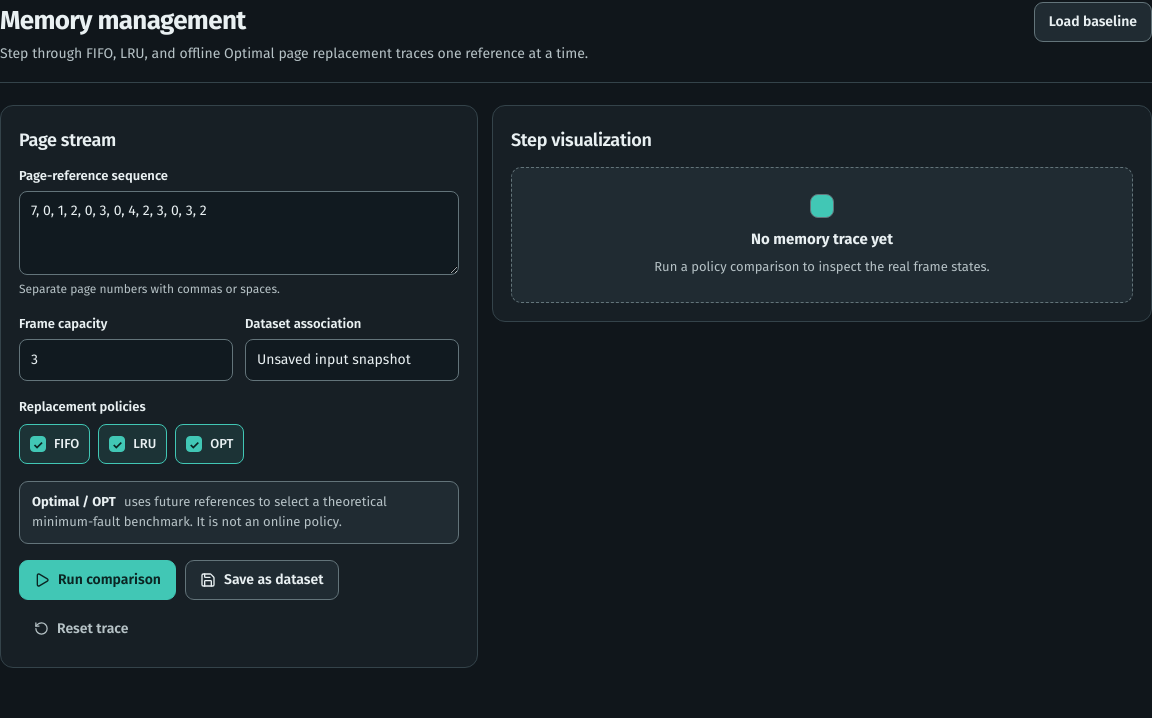
memory trace presentation › keeps resident page order clear through a replacement that changes the list
Step 1. Click the button "Run comparison" → (98, 580), box top-left (19, 560), bottom-right (176, 600)
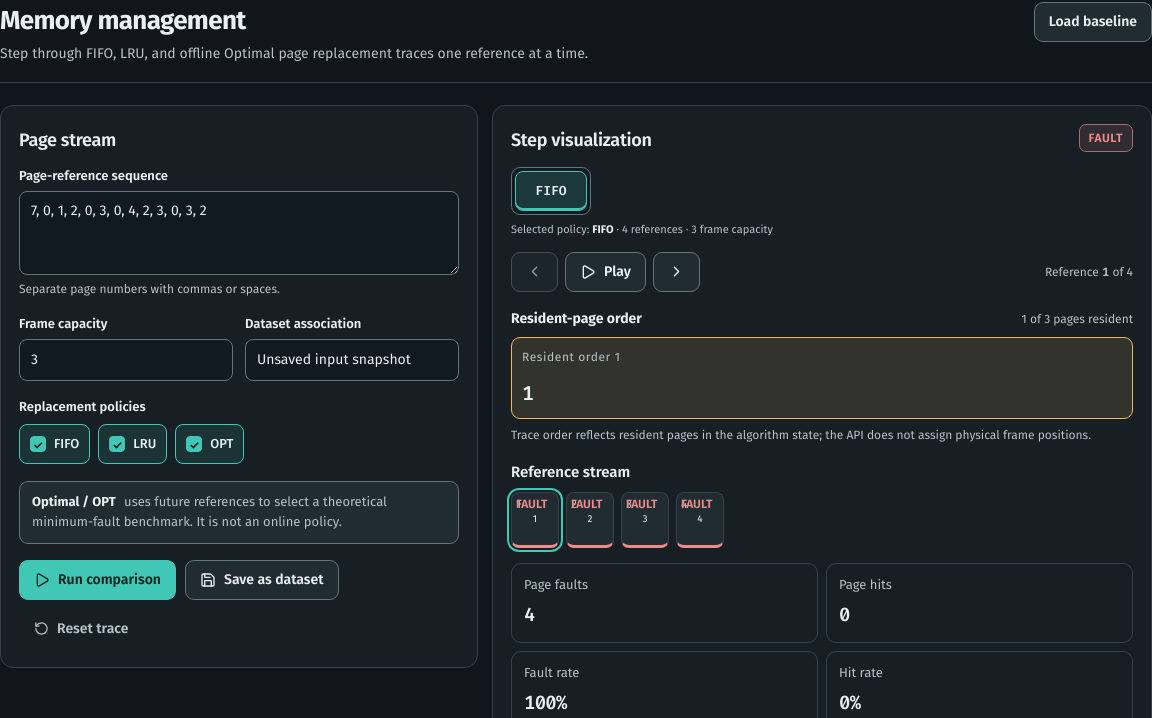
expect the text "Resident-page order" is shown: met, box top-left (511, 308), bottom-right (642, 329)
Step 2. Click the button with aria-label "Reference 4, page 4, FAULT" → (700, 520), box top-left (676, 492), bottom-right (724, 548)
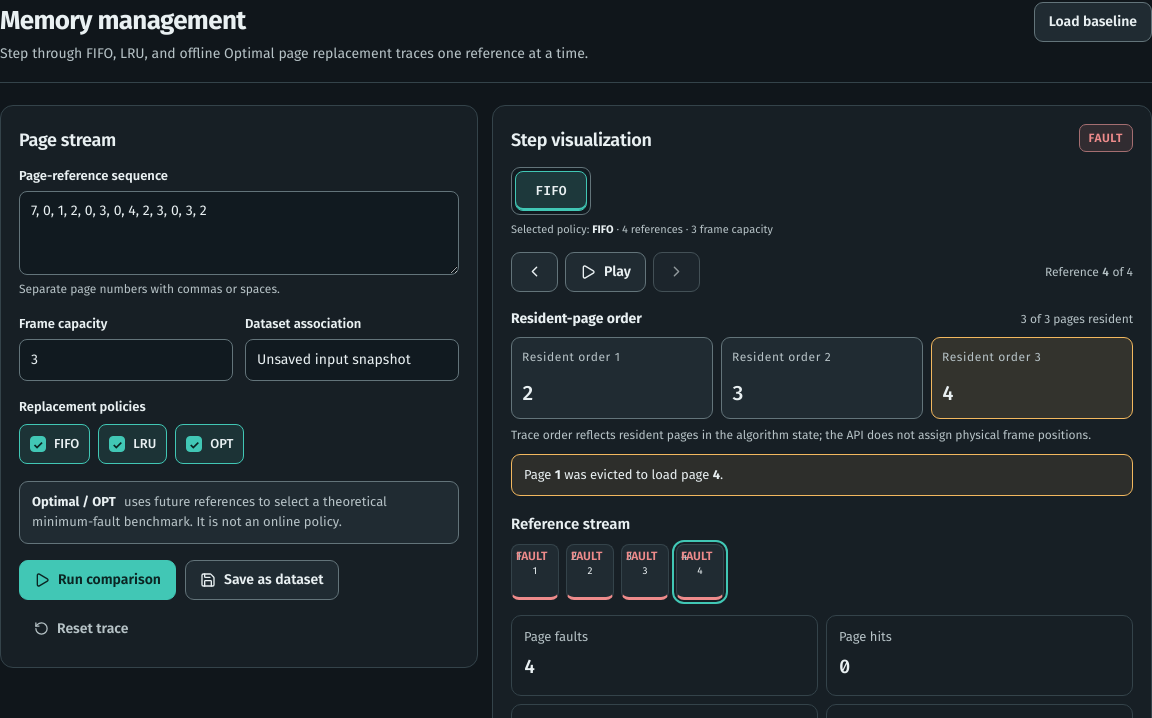
expect the element with class "resident-order" does not show "FRAME 1": met, box top-left (511, 308), bottom-right (1133, 444)
expect the text "Resident order 1" is shown 3 times: met, box top-left (522, 350), bottom-right (620, 364); top-left (732, 350), bottom-right (831, 364); top-left (942, 350), bottom-right (1041, 364)
expect the element with class "replacement-note" reads "Page 1 was evicted to load page 4.": met, box top-left (511, 454), bottom-right (1133, 496)
